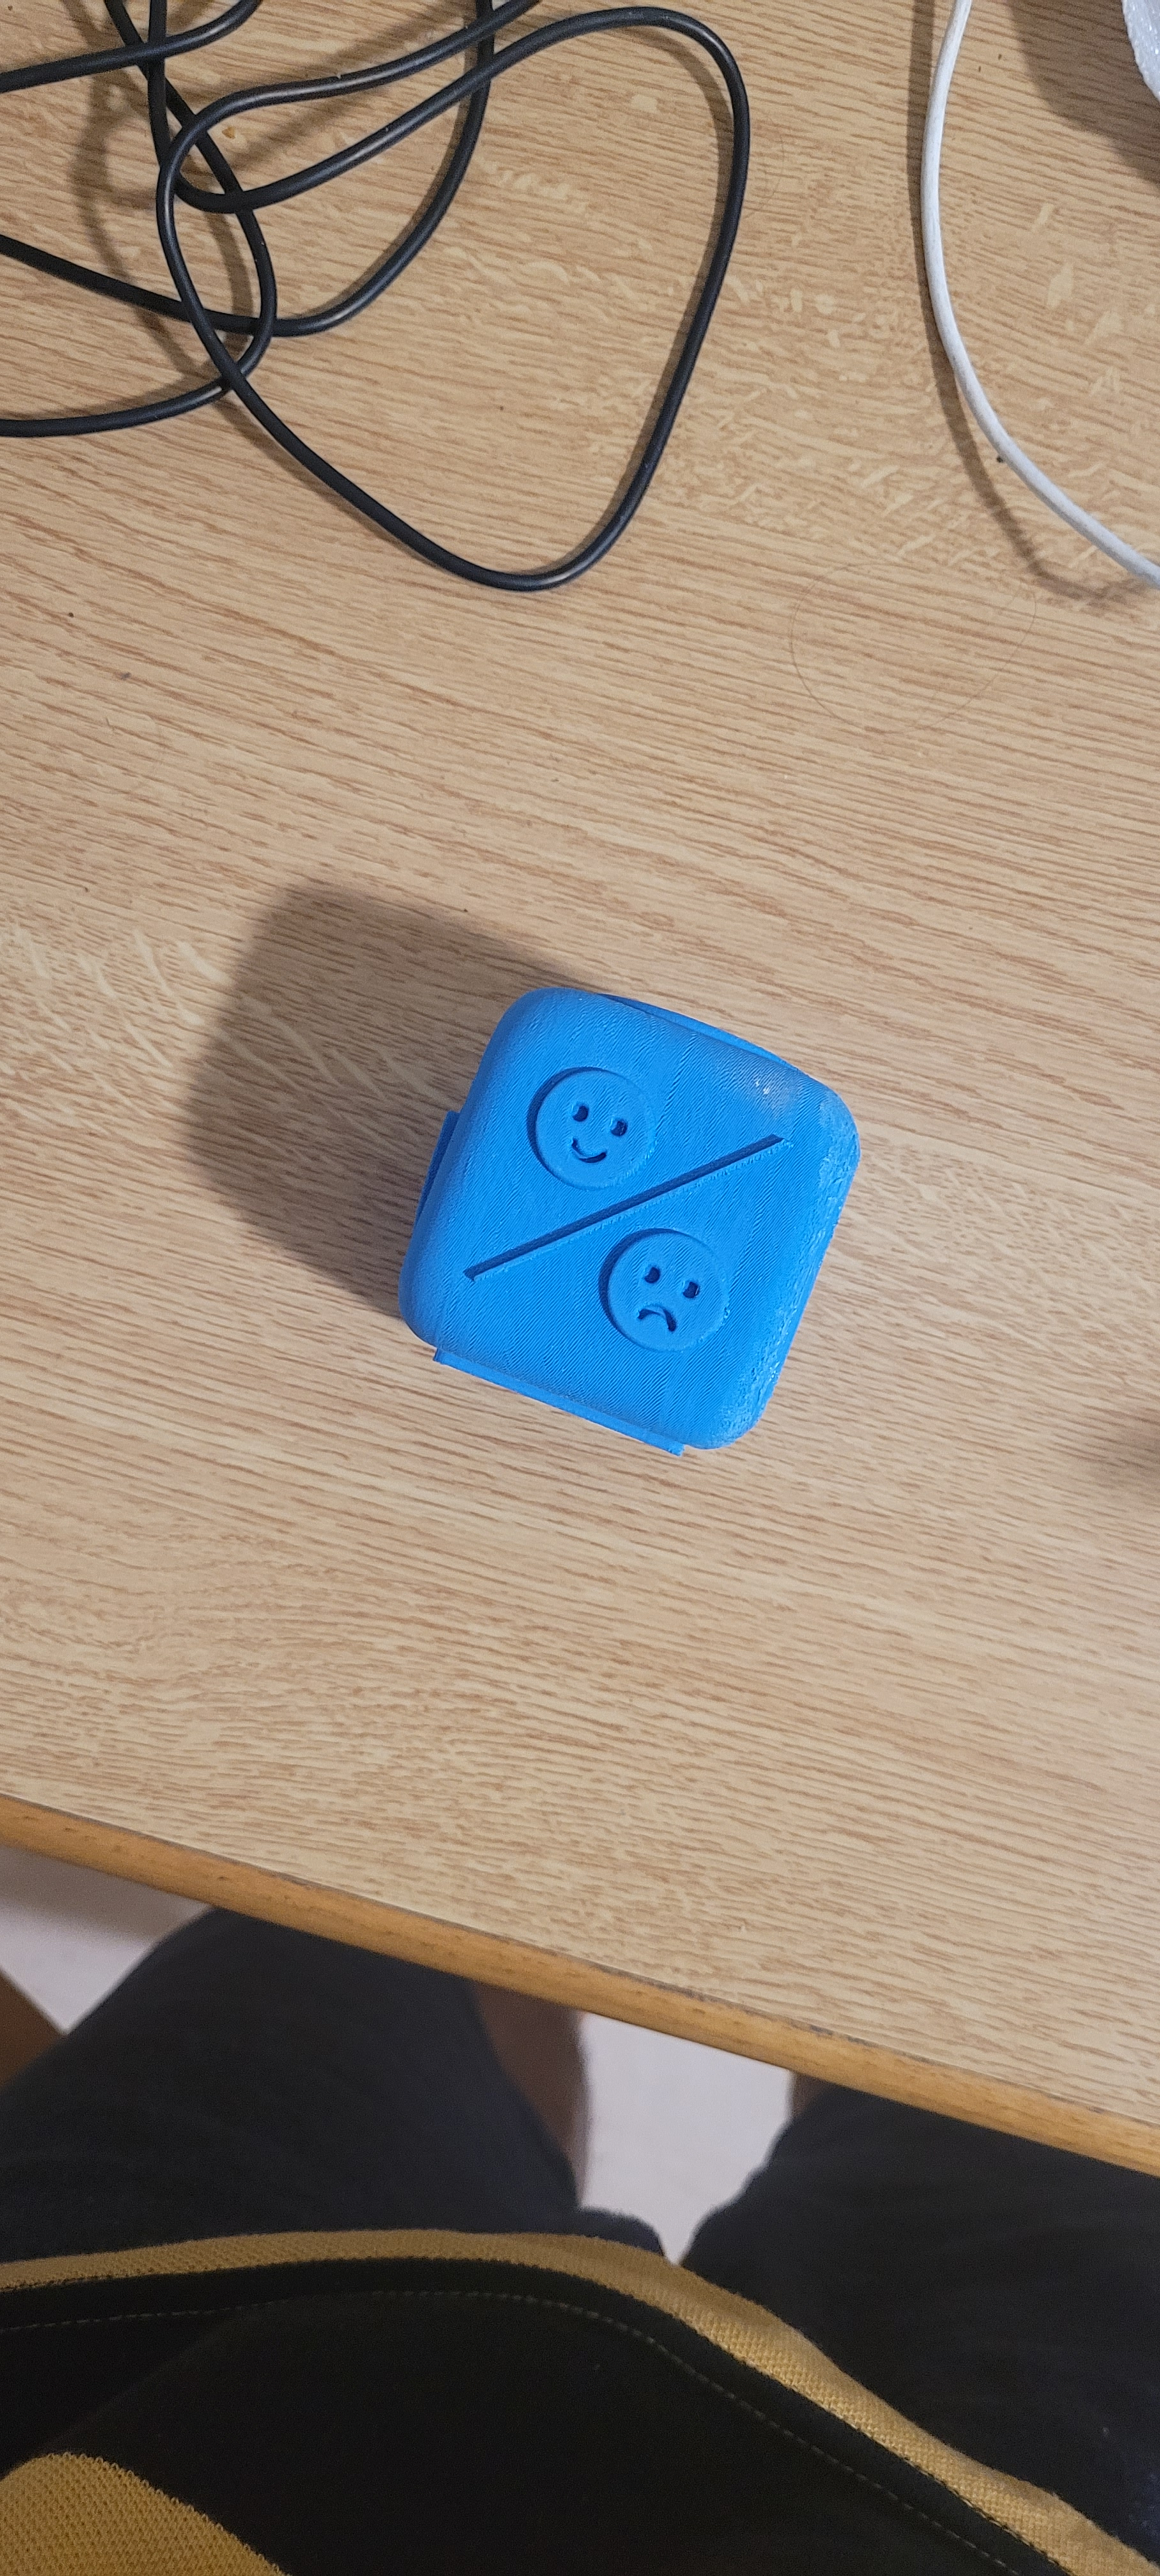Like/Dislike: (430, 940, 803, 1457)
